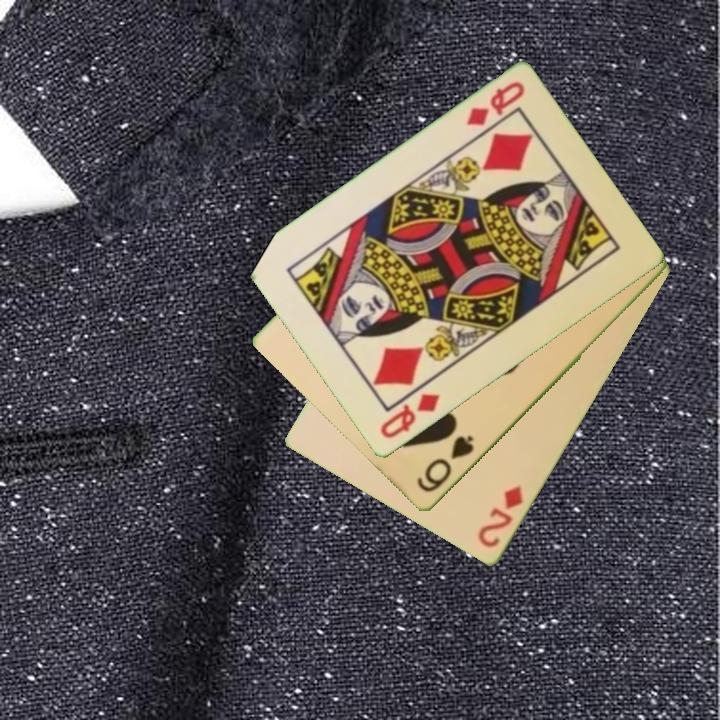2d: (474, 481, 527, 552)
6s: (413, 431, 477, 496)
Qd: (376, 390, 444, 443), (462, 78, 528, 130)
